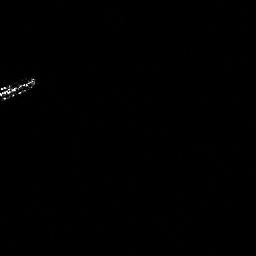ship: (1, 75, 37, 102)
